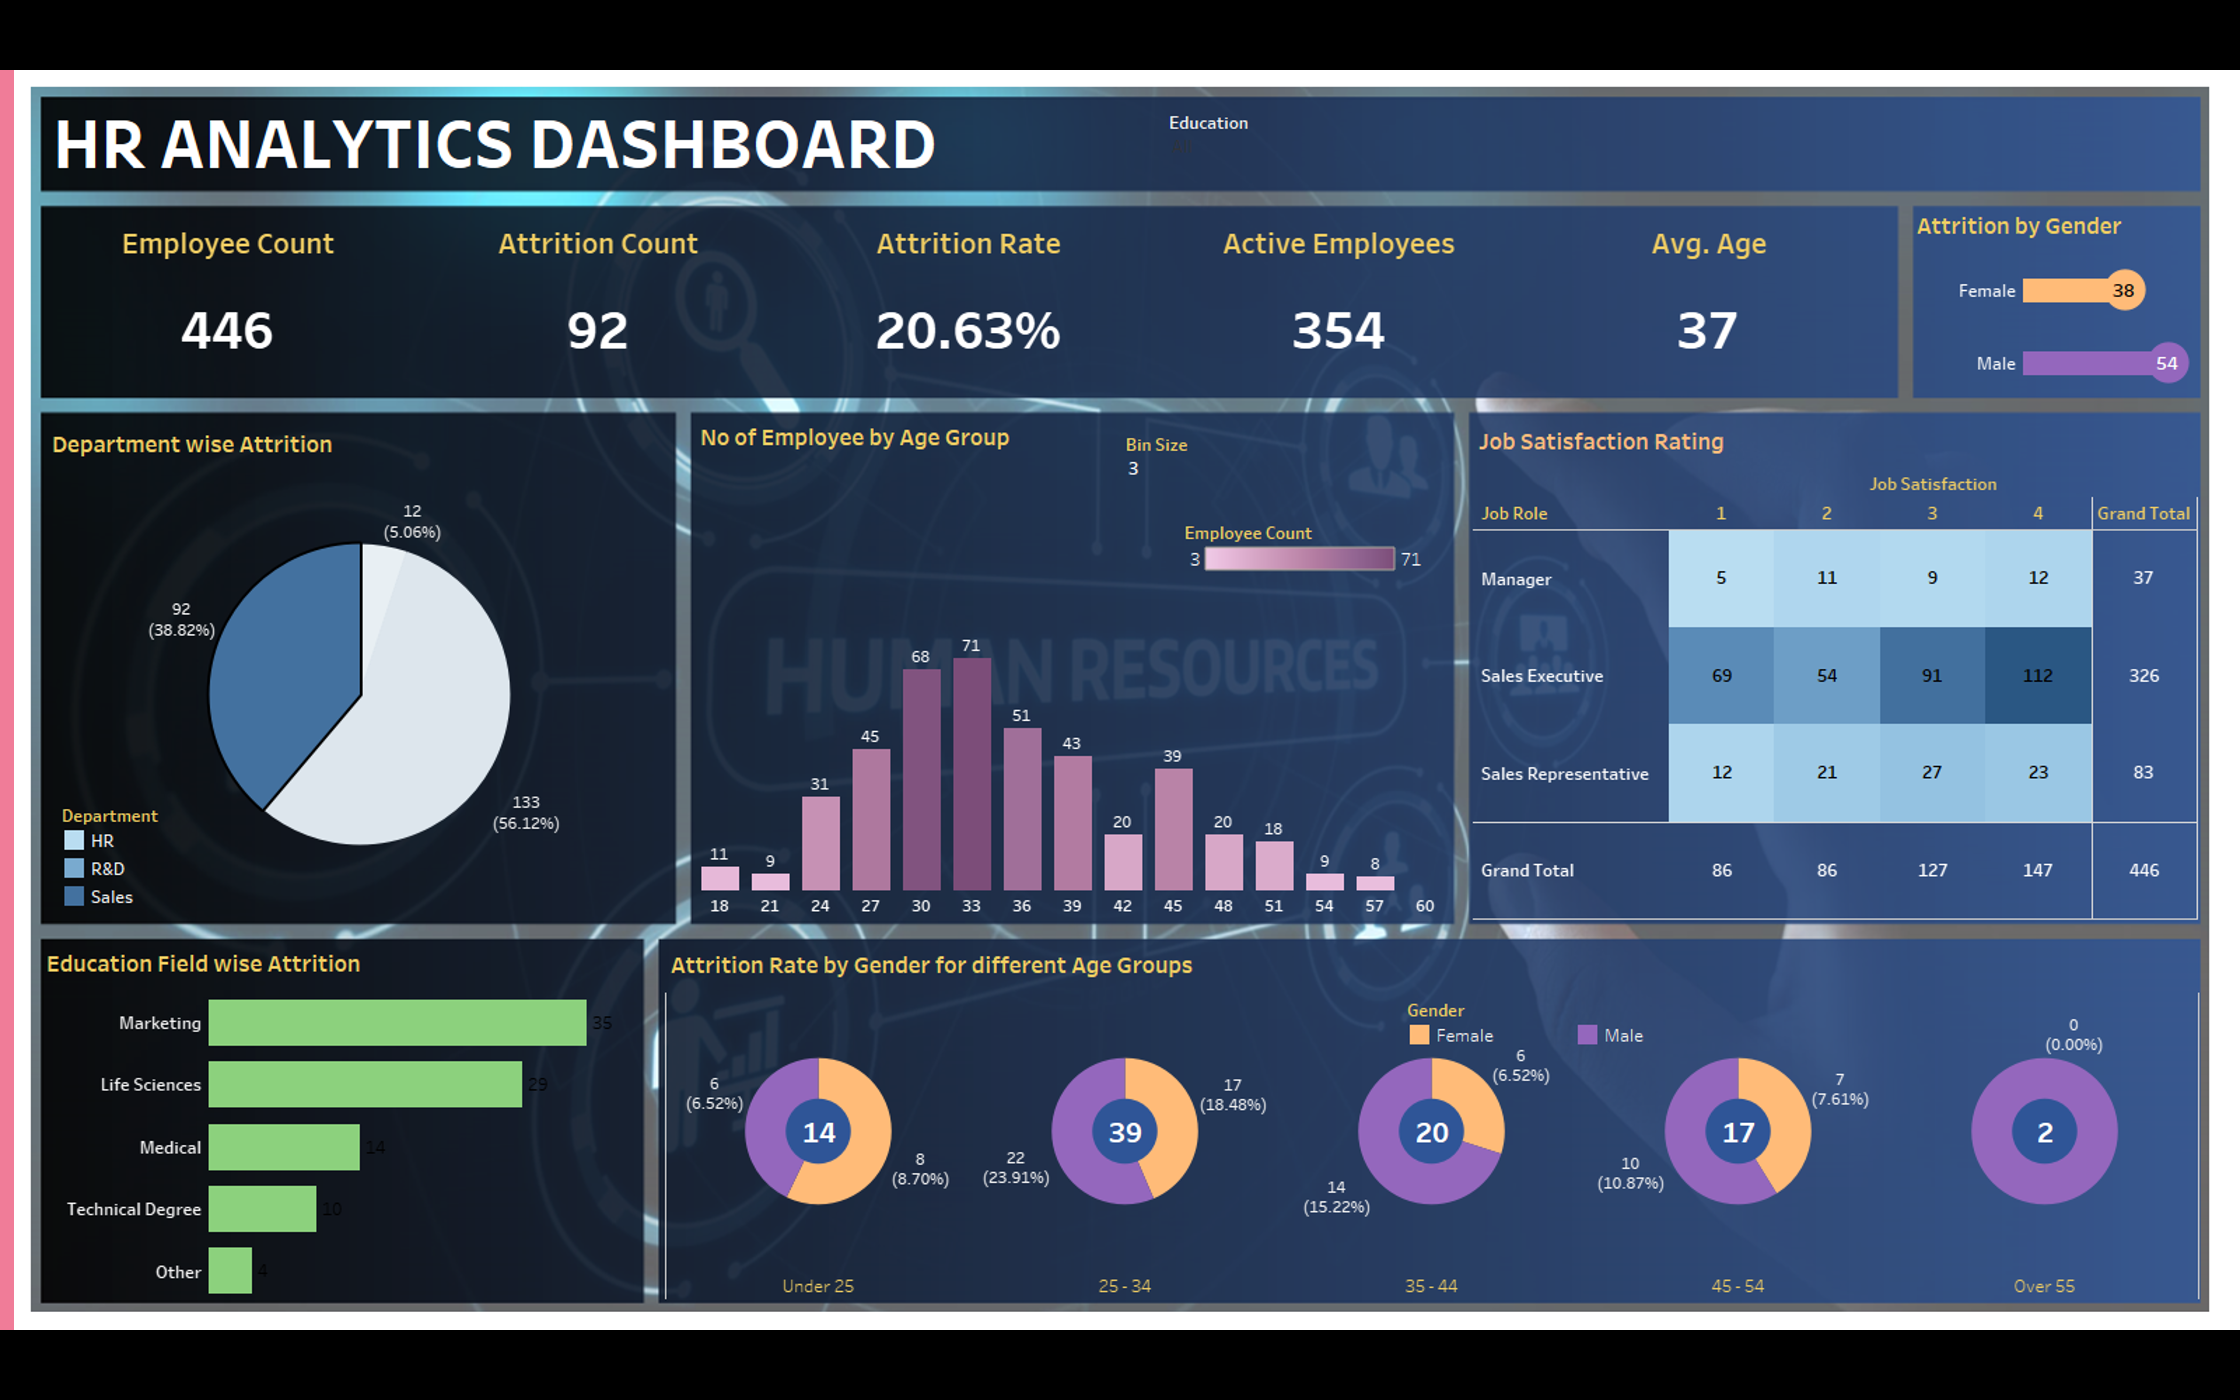

This screenshot's page, from the dashboard's own definition file:
{"tool":"tableau","page":{"name":"HR Dashboard ","canvas":[1580,900],"ordinal":0},"visuals":[{"type":"image","param":"Image/HR background.pptx.png","box":[8,8,1564,884]},{"type":"text","box":[19,19,1028,65]},{"type":"filter","title":"Department wise Attrition","param":"[federated.0f0h03p1it3gvo176rhln1y1tx4v].[none:Education:nk]","box":[975,21,231,62]},{"type":"worksheet","title":"Attrition by Gender","mark":"Automatic","rows":["Gender"],"cols":["Calculation_231935388807032832","Calculation_231935388807032832"],"box":[1345,93,216,139]},{"type":"worksheet","title":"KPI","mark":"Automatic","box":[18,96,1326,136]},{"type":"worksheet","title":"No. of Employee by Age Group","mark":"Automatic","rows":["Employee Count"],"cols":["Age (bin)"],"box":[484,243,543,365]},{"type":"worksheet","title":"Department wise Attrition","mark":"Pie","box":[20,244,451,365]},{"type":"worksheet","title":"Job Satisfaction Rating","mark":"Square","rows":["Job Role"],"cols":["Job Satisfaction"],"box":[1039,245,525,364]},{"type":"parameter","param":"[Parameters].[Age Parameter]","box":[872,252,155,49]},{"type":"legend","title":"No. of Employee by Age Group","param":"[federated.0f0h03p1it3gvo176rhln1y1tx4v].[sum:Employee Count:qk]","box":[488,279,164,24]},{"type":"legend","title":"Department wise Attrition","param":"[federated.0f0h03p1it3gvo176rhln1y1tx4v].[none:Department:nk]","box":[23,518,140,85]},{"type":"worksheet","title":"Education Field wise Attrition","mark":"Automatic","rows":["Education Field"],"cols":["Calculation_231935388807032832"],"box":[18,619,431,262]},{"type":"worksheet","title":"Attrition Rate by Gender for Different Age Group","mark":"Pie","rows":["Calculation_1302666200262176769","Calculation_1302666200262176769"],"cols":["CF_age band"],"box":[461,620,1098,255]},{"type":"legend","title":"Attrition Rate by Gender for Different Age Group","param":"[federated.0f0h03p1it3gvo176rhln1y1tx4v].[none:Gender:nk]","box":[1111,629,381,31]}]}

Visuals, with their boxes in screenshot pixels (x1, y1, x2, y2):
image: <region>17, 81, 2204, 1317</region>
text: <region>32, 97, 1470, 187</region>
"Department wise Attrition" filter: <region>1369, 99, 1692, 186</region>
"Attrition by Gender" worksheet: <region>1886, 200, 2188, 394</region>
"KPI" worksheet: <region>31, 204, 1885, 394</region>
"No. of Employee by Age Group" worksheet: <region>683, 410, 1442, 920</region>
"Department wise Attrition" worksheet (Pie marks): <region>34, 411, 664, 921</region>
"Job Satisfaction Rating" worksheet (Square marks): <region>1458, 413, 2192, 921</region>
parameter: <region>1225, 422, 1442, 491</region>
"No. of Employee by Age Group" legend: <region>688, 460, 917, 494</region>
"Department wise Attrition" legend: <region>38, 794, 234, 913</region>
"Education Field wise Attrition" worksheet: <region>31, 935, 634, 1302</region>
"Attrition Rate by Gender for Different Age Group" worksheet (Pie marks): <region>650, 937, 2185, 1293</region>
"Attrition Rate by Gender for Different Age Group" legend: <region>1559, 949, 2092, 993</region>
